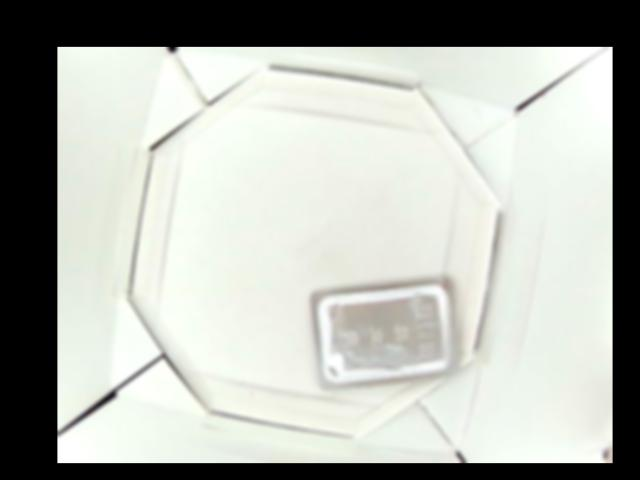Medicine: (313, 273, 459, 387)
